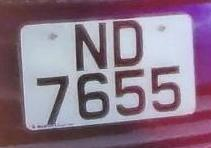5: (111, 62, 150, 127), (146, 61, 187, 121)
6: (74, 67, 115, 129)
7: (34, 69, 75, 131)
N: (67, 17, 115, 76)
